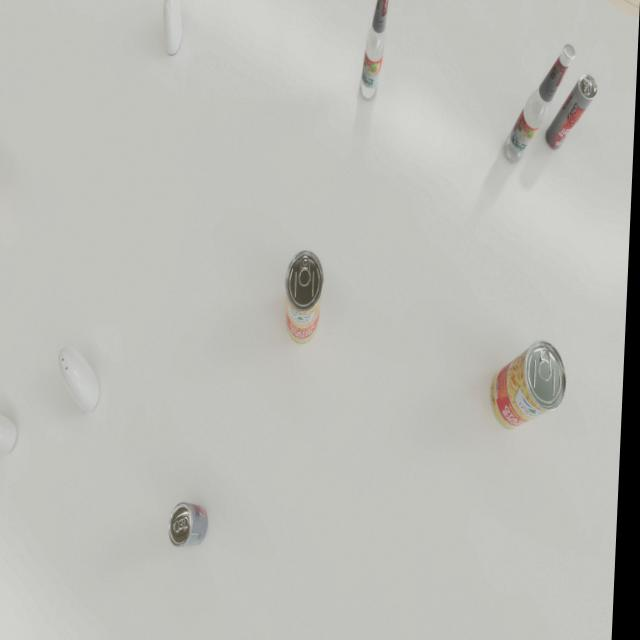Bottle: (505, 44, 576, 164), (361, 0, 392, 100)
Potato_sticks: (493, 340, 571, 429), (286, 250, 328, 344)
Rita_zero_sugar: (547, 74, 599, 150), (173, 502, 214, 547)
Salt: (59, 346, 104, 412), (162, 0, 183, 55), (0, 408, 23, 454)
